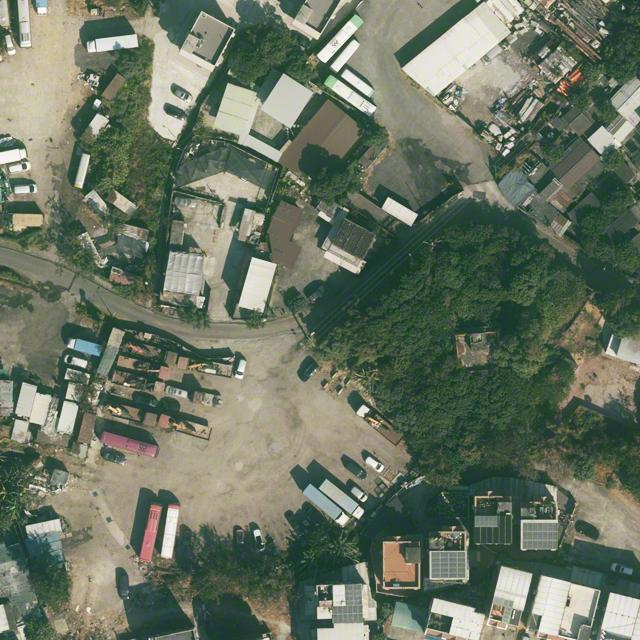panel: (429, 550, 468, 581), (521, 521, 560, 551), (331, 607, 363, 623), (345, 583, 361, 606), (474, 516, 498, 528)
